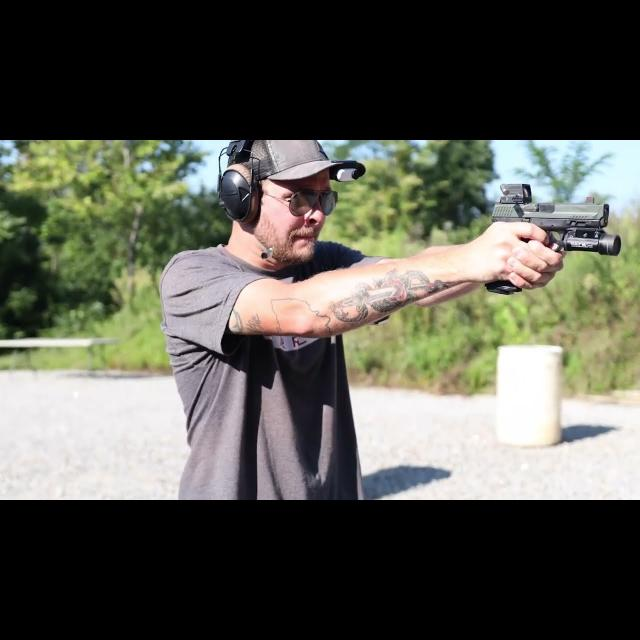handgun: (482, 180, 626, 260)
